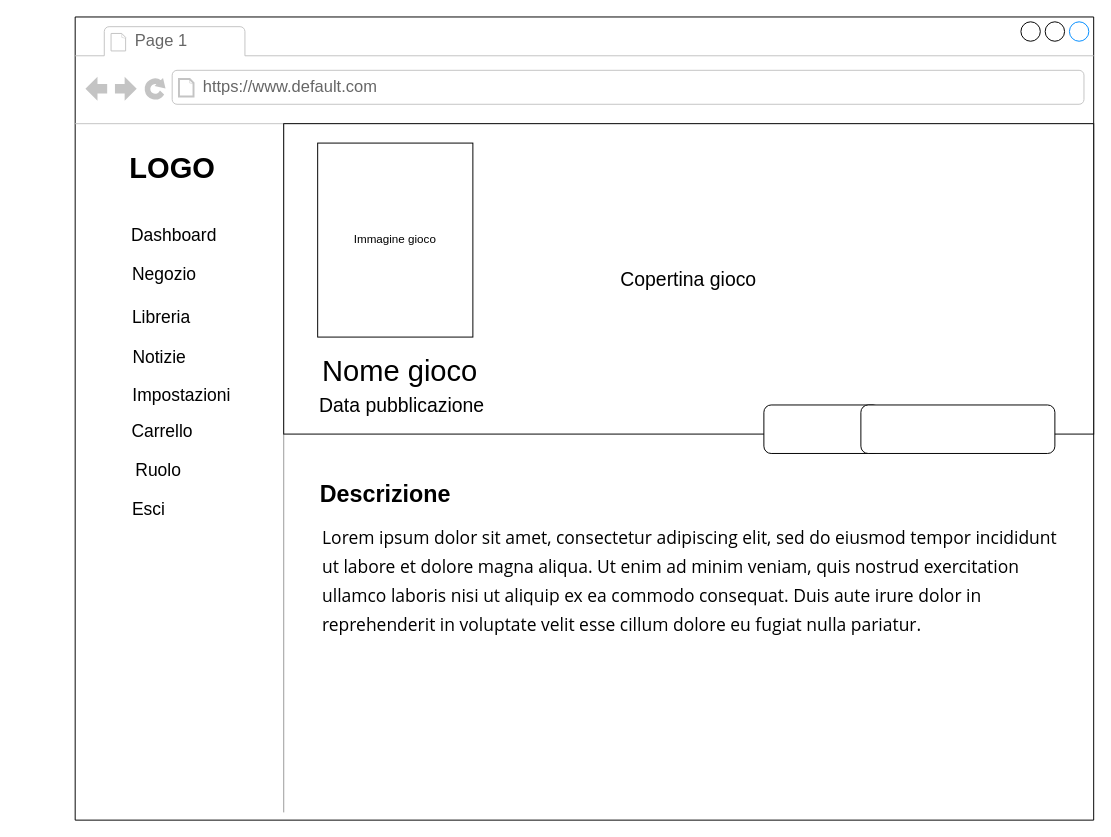
This 1111x837 diagram has some shape labels left out. The centre of each missing label's shape, as x and y in pixels:
Aggiungi al carrello: (957,428)
Prezzo: (821,428)
